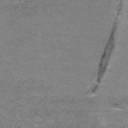finishing roll printing: (97, 22, 116, 83), (92, 85, 98, 92), (114, 104, 119, 106)
